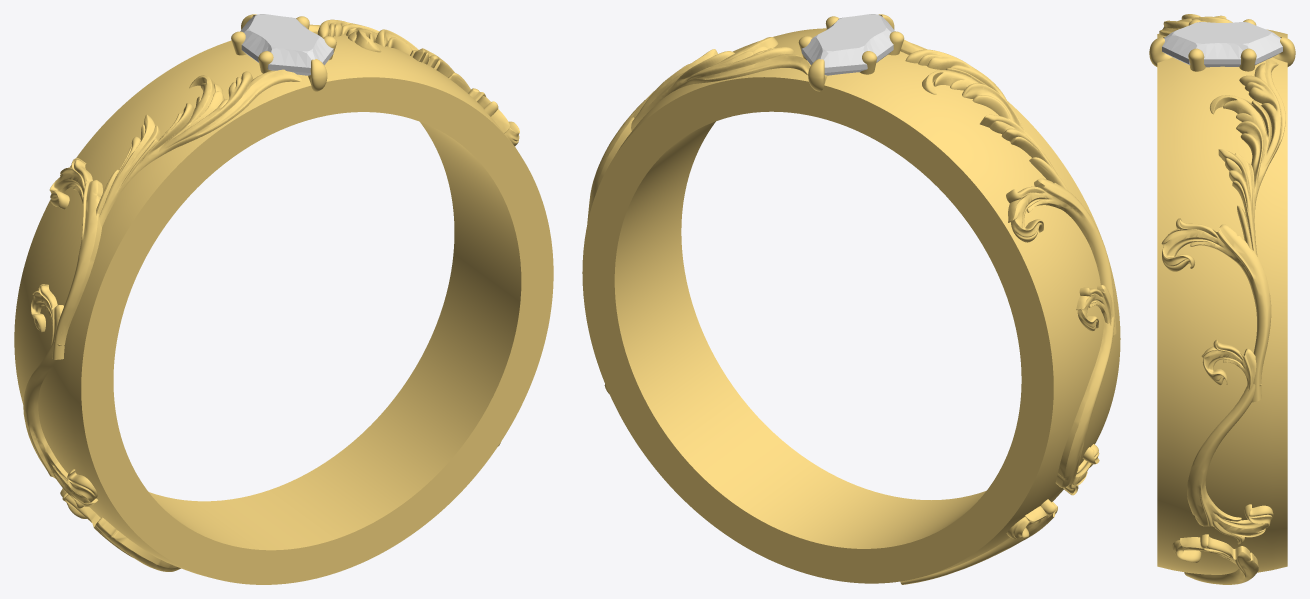
Rendered from AlexYGV3_blender.glb.
The picture shows the model from 3 angles, left to right: view 1: azimuth 30°, elevation 25°; view 2: azimuth 150°, elevation 25°; view 3: azimuth 270°, elevation 25°; orthographic projection. The views are drawn at different scales.
Visible parts, largest first — view 1: V3 Alex YG for 3d model, V3 Alex dia for 3d model; view 2: V3 Alex YG for 3d model, V3 Alex dia for 3d model; view 3: V3 Alex YG for 3d model, V3 Alex dia for 3d model.
Boxes of the visible parts, x1,y1,x2,y2 form: V3 Alex YG for 3d model: (14,14,553,584); V3 Alex dia for 3d model: (240,14,333,75); V3 Alex YG for 3d model: (582,14,1120,584); V3 Alex dia for 3d model: (801,14,894,75); V3 Alex YG for 3d model: (1149,14,1295,584); V3 Alex dia for 3d model: (1162,22,1282,67).
Bounding box in the file's own units: 25.26 × 25.32 × 6.5.
